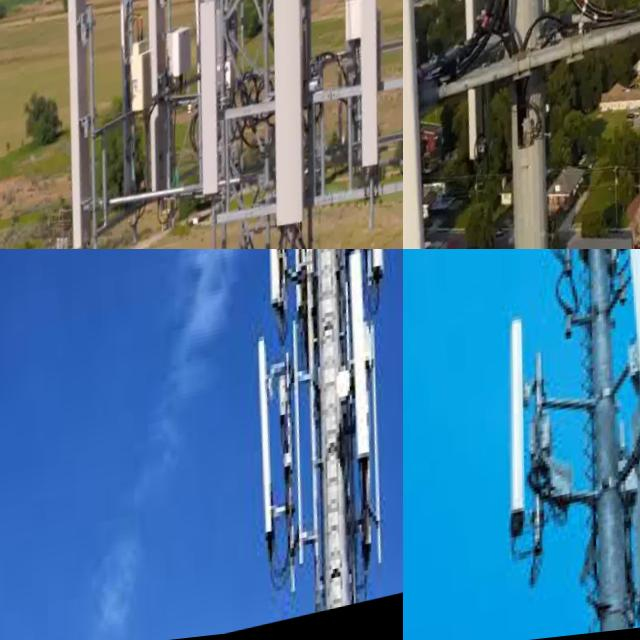GSM Antenna: (250, 0, 347, 246), (43, 0, 129, 249), (403, 0, 487, 249), (123, 0, 213, 221), (487, 307, 562, 547), (329, 249, 400, 491), (182, 0, 251, 216), (443, 0, 525, 174), (241, 332, 302, 551), (341, 0, 403, 201), (240, 249, 313, 330), (611, 249, 640, 449), (344, 249, 403, 323), (498, 0, 564, 66), (621, 453, 640, 629)
Microwave Antenna: (337, 361, 365, 416)
